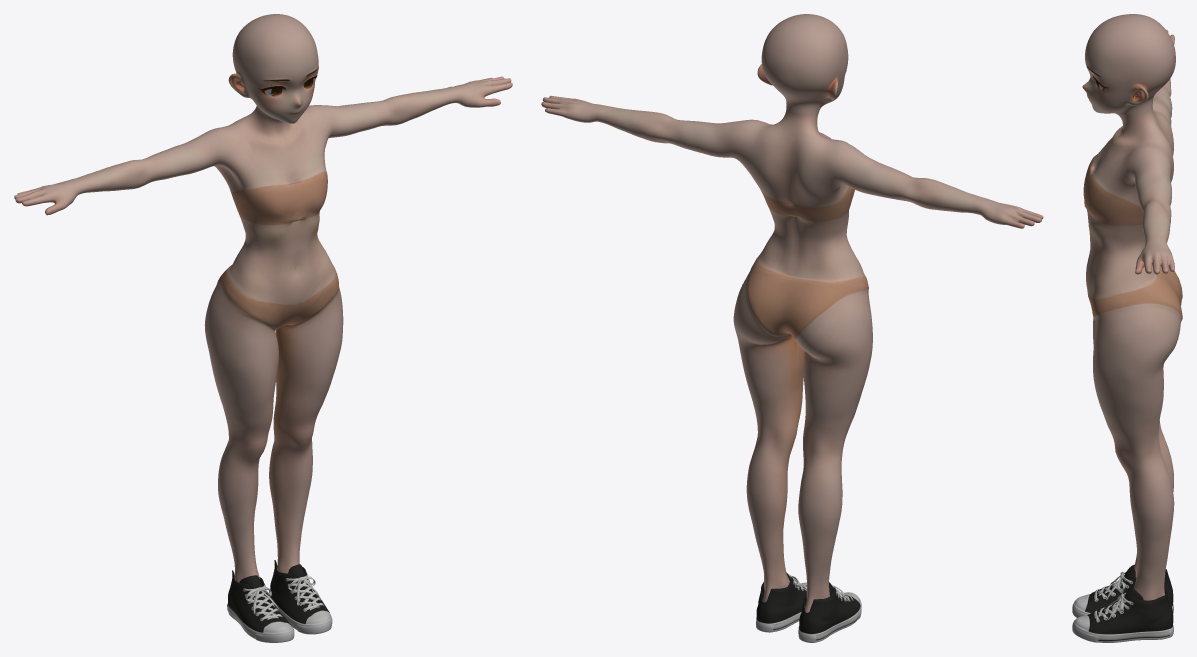
Rendered from male_t_pose3.glb.
3 renders of one model, left to right at view 1: azimuth 30°, elevation 25°; view 2: azimuth 150°, elevation 25°; view 3: azimuth 270°, elevation 25°, orthographic.
Parts seen in each view (by area): view 1: body_3; view 2: body_3; view 3: body_3.
Part boxes in pixels (x1,y1,x2,y2): body_3: (14, 14, 512, 642); body_3: (541, 14, 1043, 642); body_3: (1072, 14, 1182, 642).
Size of the model in its own units: 1.47 by 1.7 by 0.2812.
3 materials, 3 textured.
